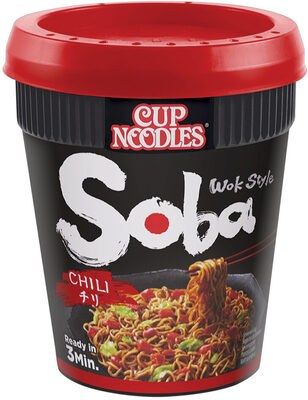Soba noodle spicy: (15, 20, 293, 380)
